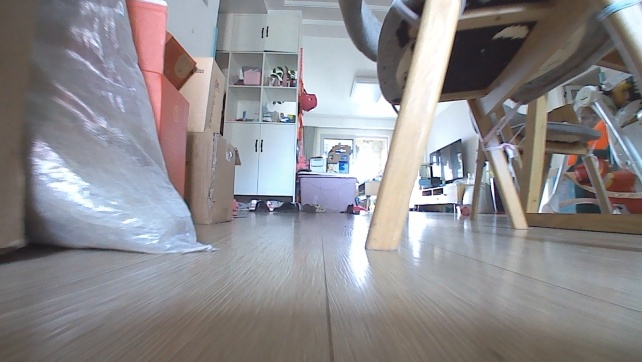TV_stand: (412, 181, 472, 215)
dining_table1: (334, 0, 641, 253)
